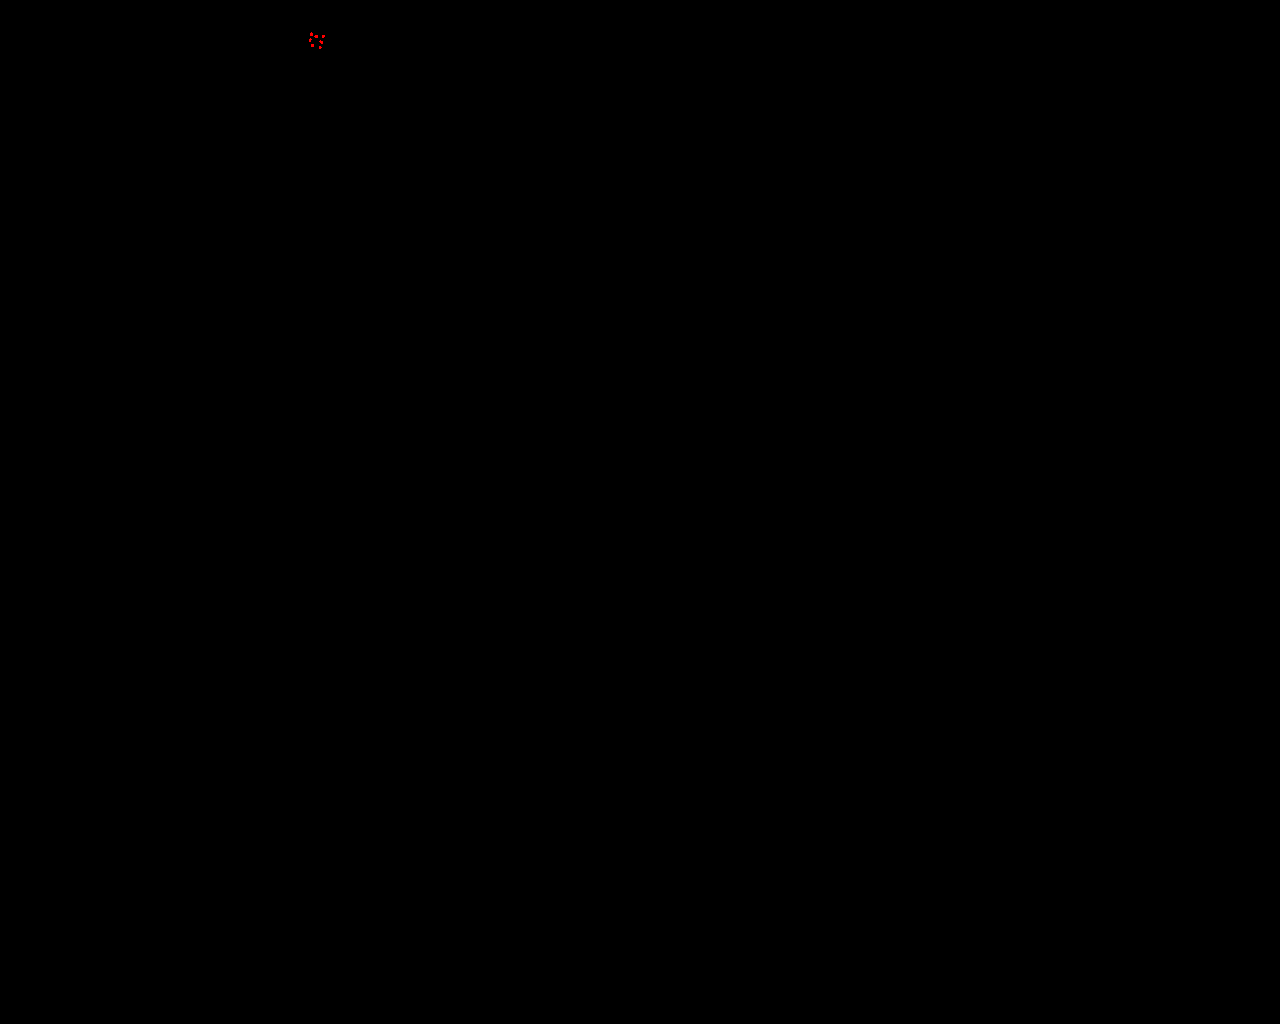Target: (319, 40, 323, 44), (309, 38, 312, 42), (310, 32, 313, 36), (315, 34, 318, 38), (322, 34, 325, 38), (311, 44, 315, 47), (319, 46, 322, 49)
